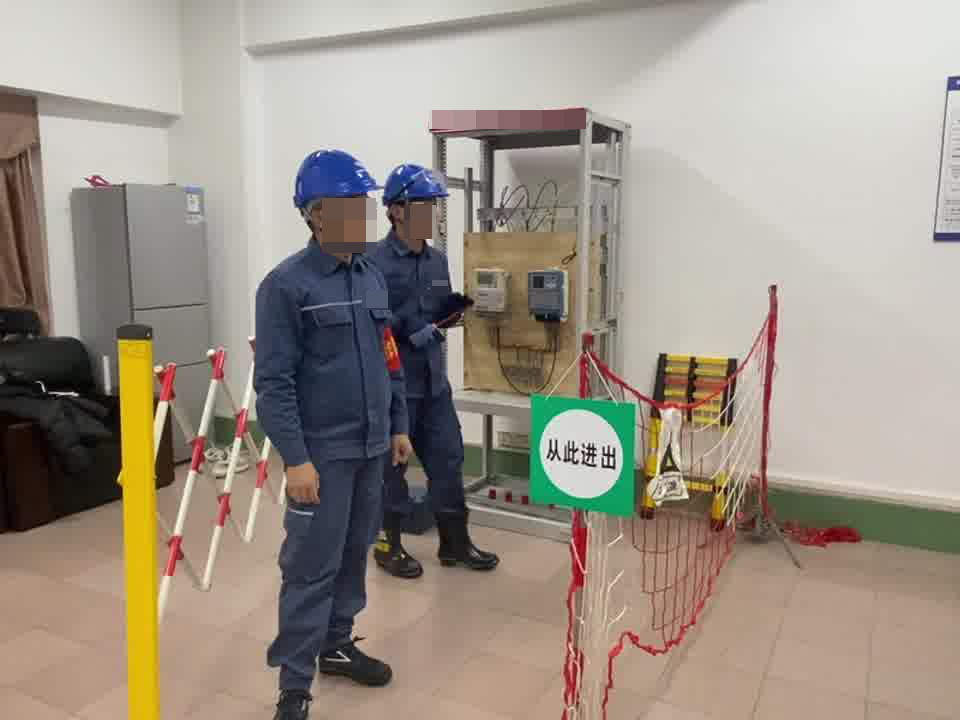badge: (381, 326, 404, 377)
downsuit: (270, 459, 392, 690), (412, 400, 474, 510)
glove: (404, 314, 445, 350)
halt: (293, 149, 377, 251), (382, 162, 451, 244)
hand: (284, 466, 325, 510), (388, 437, 417, 467)
inear: (302, 201, 345, 243), (387, 201, 419, 232)
intosign: (524, 398, 636, 502)
person: (252, 144, 420, 718), (366, 161, 493, 580)
shoe: (375, 505, 504, 581)
upsuit: (248, 232, 409, 455), (379, 249, 458, 398)
